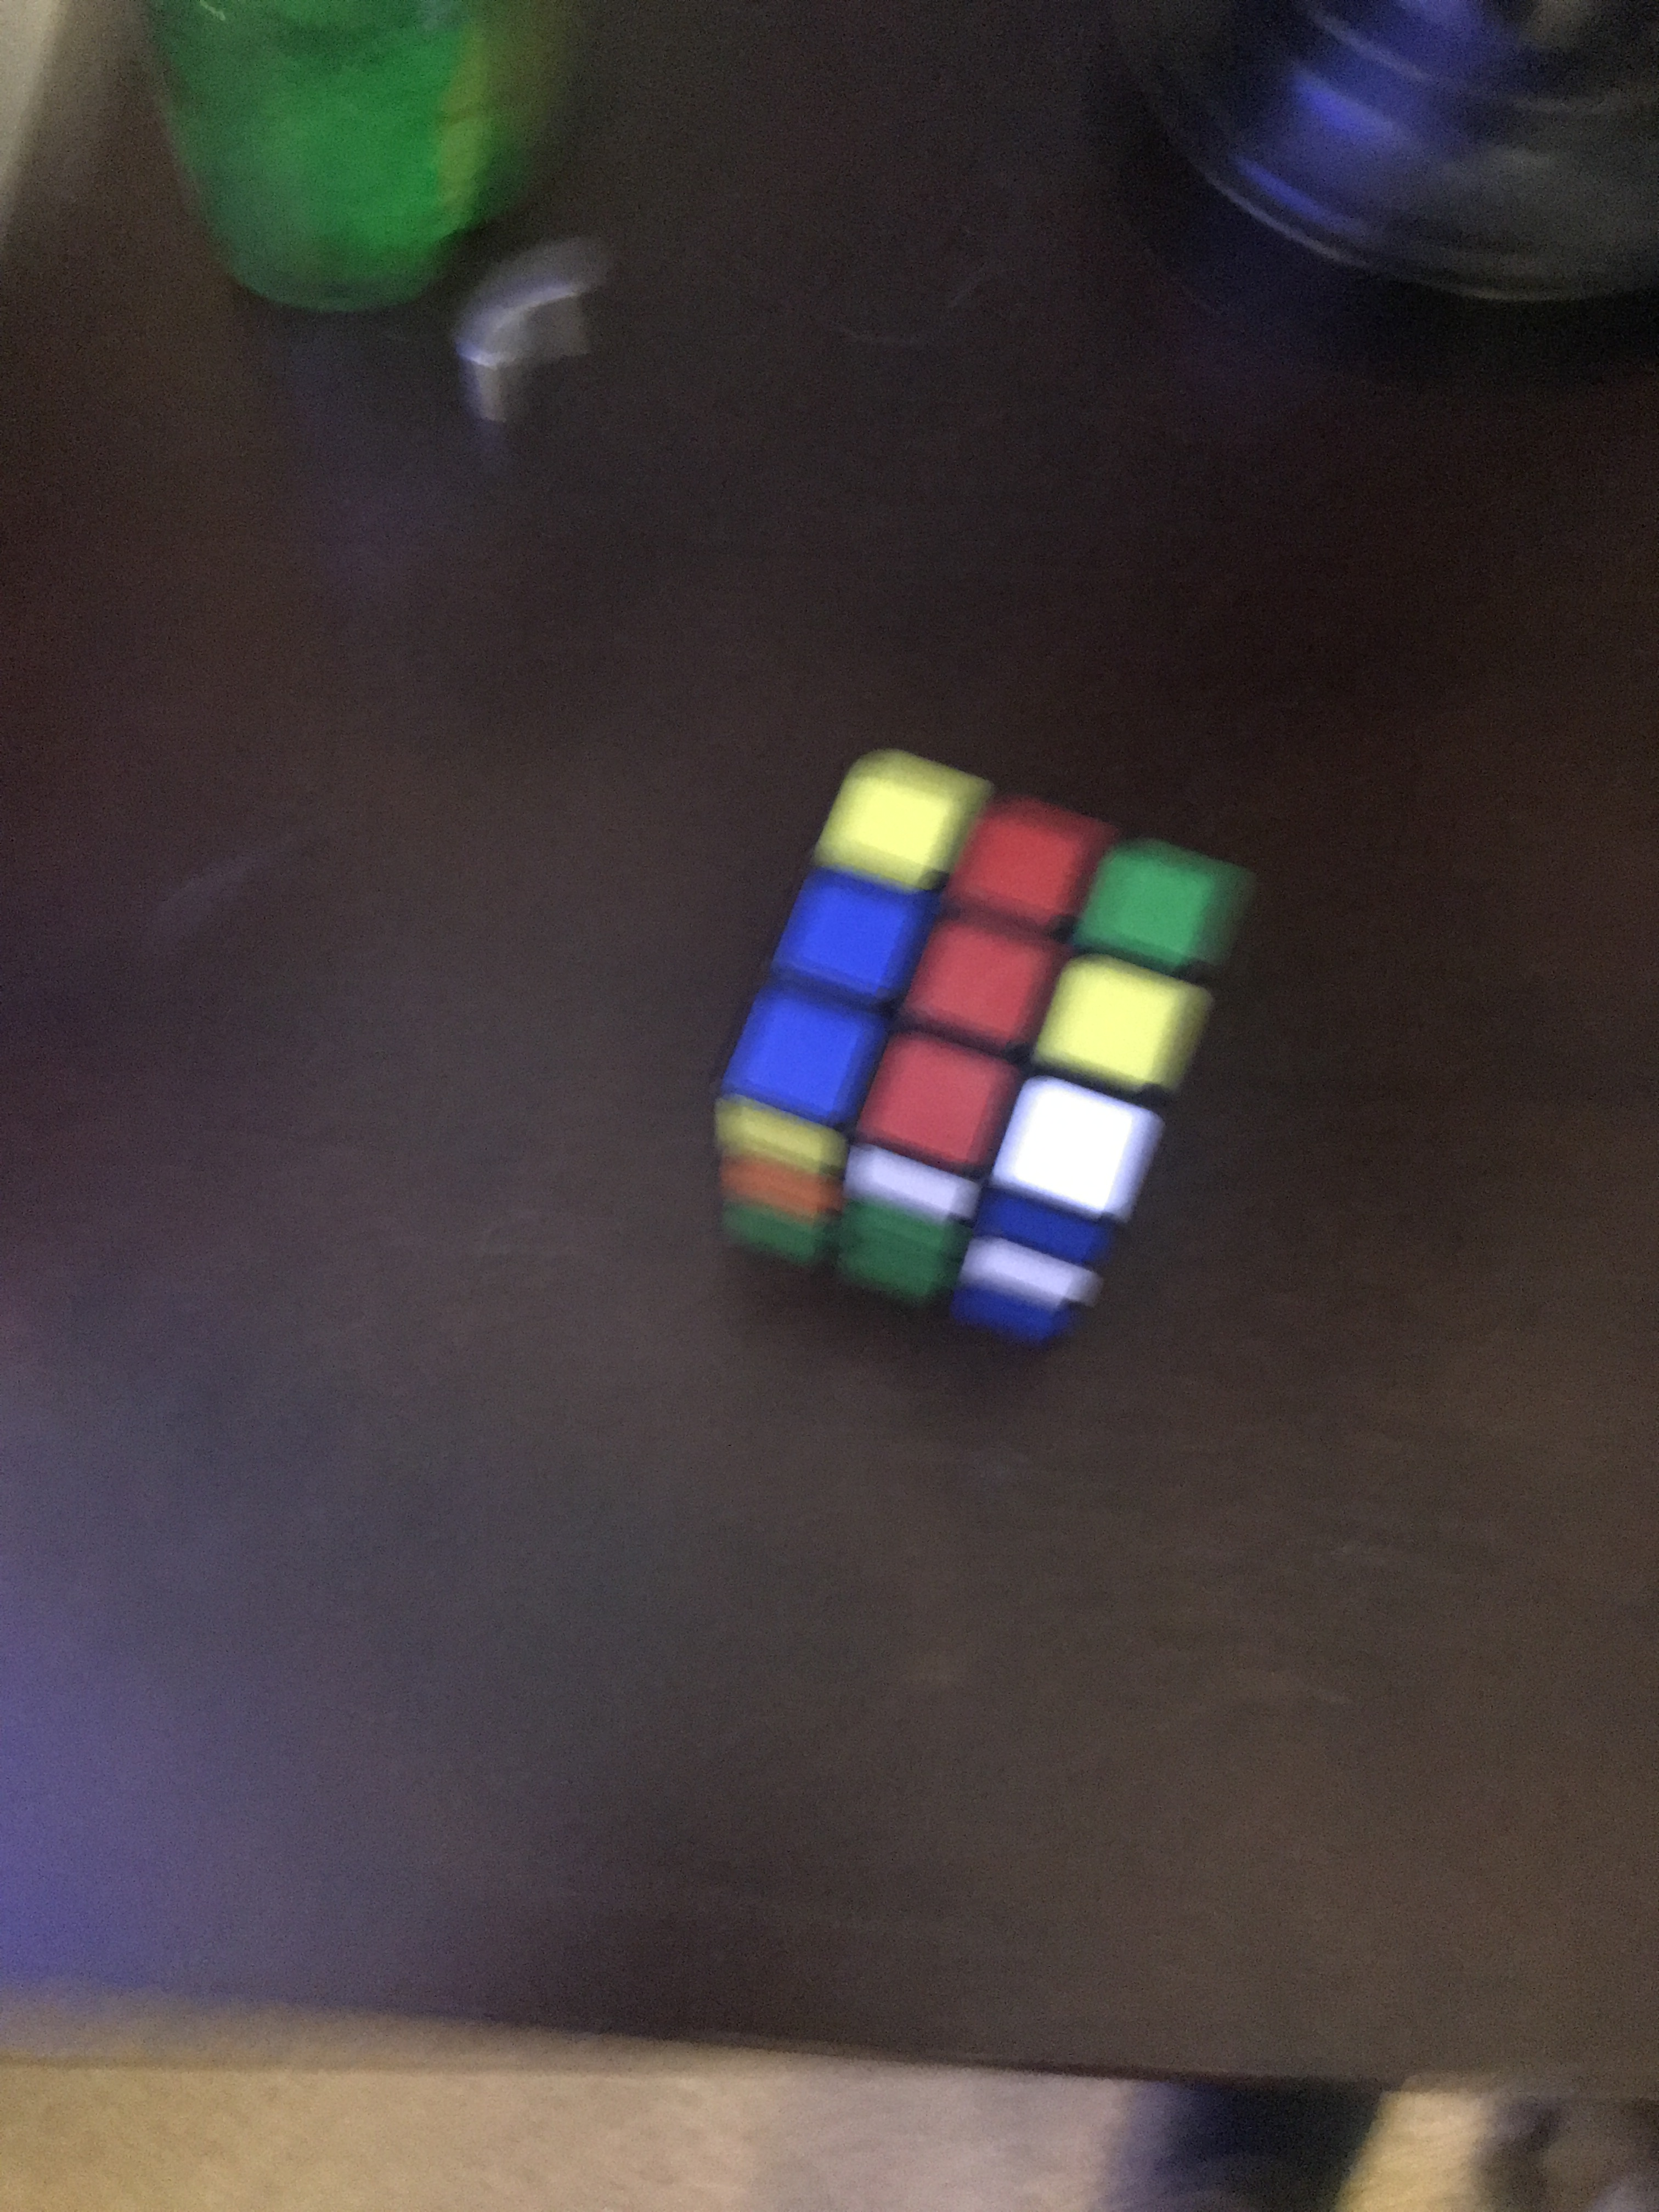rubiks: (695, 751, 1255, 1346)
